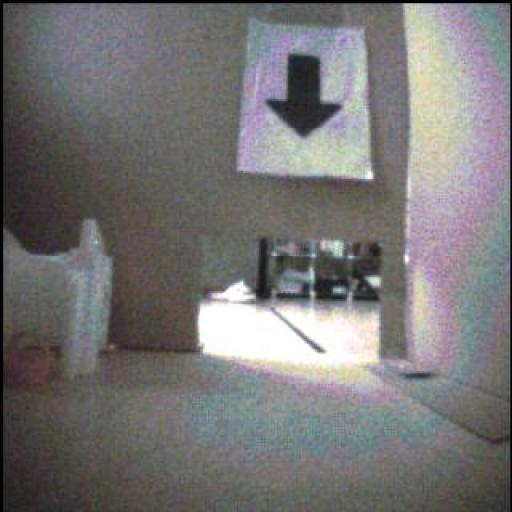arrow: (268, 56, 342, 139)
